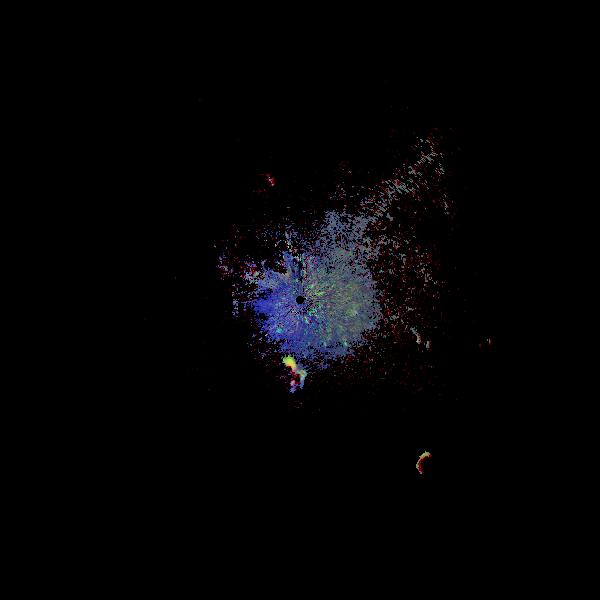roost: (272, 351, 320, 399), (414, 451, 444, 481), (250, 170, 280, 200)
